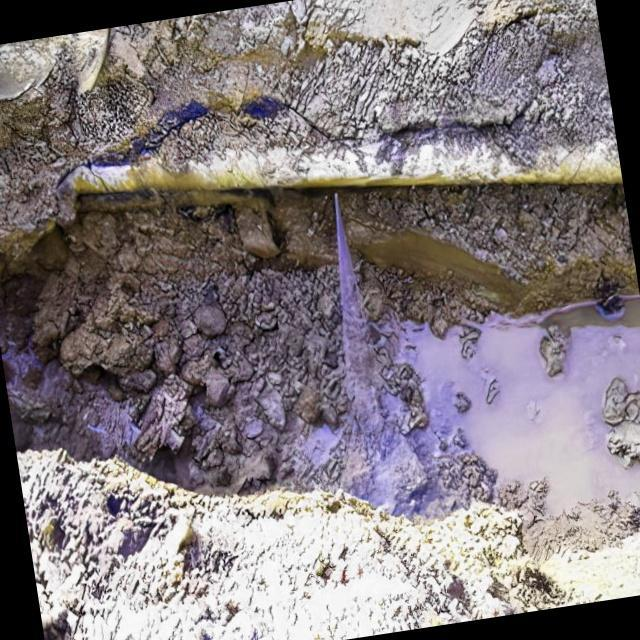pipe burst: (329, 182, 376, 424)
water accumulation: (386, 294, 640, 510)
